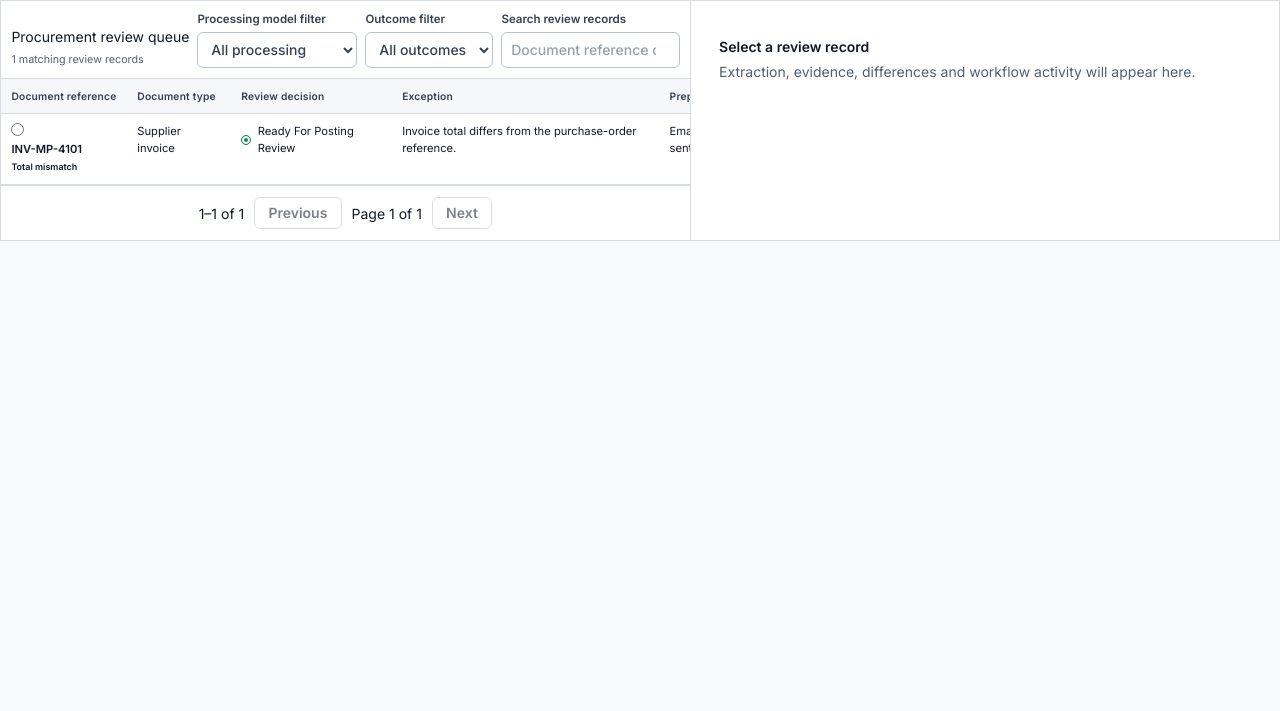
Scenario: Run explorer › shows an active same-origin preview and honest inspector sections
Click the radio button named "Select INV-MP-4101, Ready for posting review, received 27 Aug 2026, 08:00 SGT".
click(18, 130)  # box [11,123,24,136]
(page scrolled)
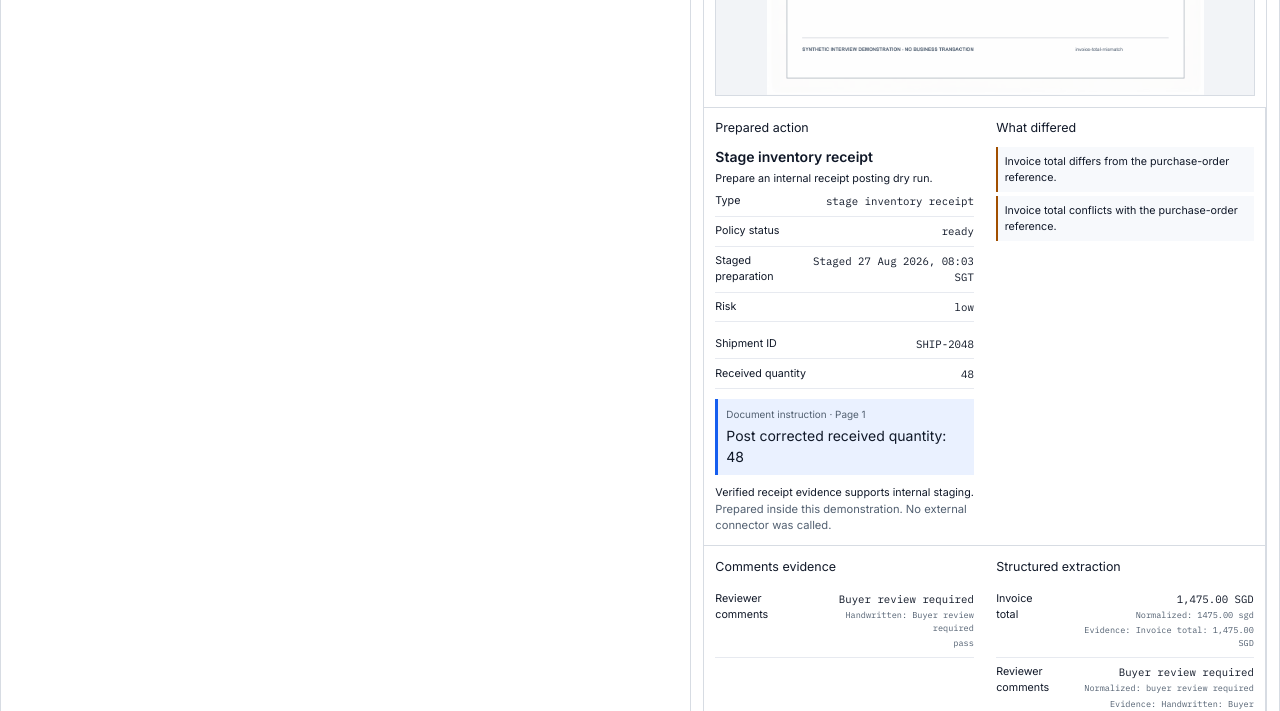
Now the heading "Prepared action" is shown, box [715,120,809,135]
Now the heading "What differed" is shown, box [996,120,1076,135]
Now the heading "Comments evidence" is shown, box [715,559,836,574]
